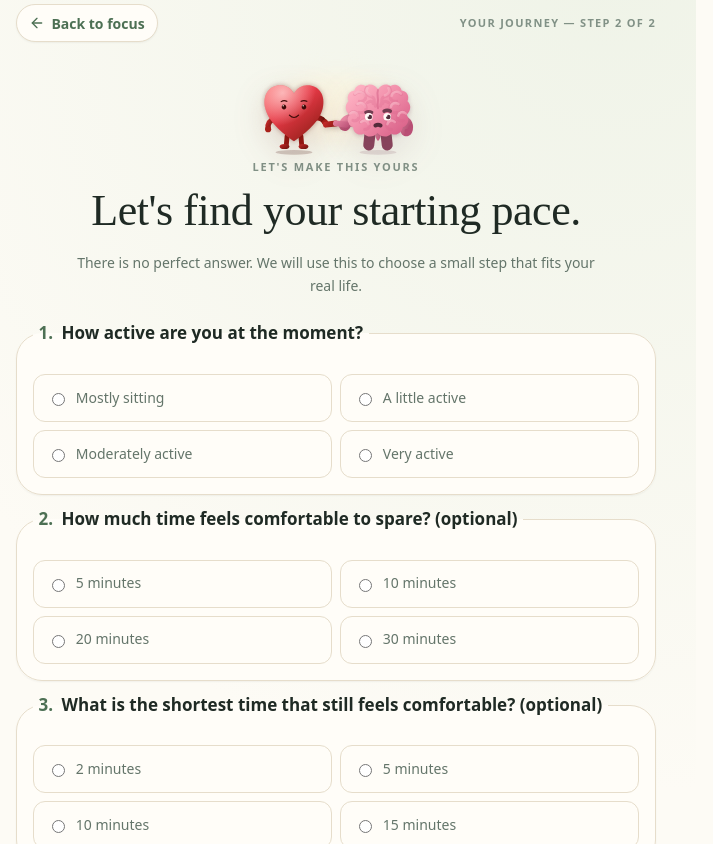
Test: ecosystem context on personalisation › applies the desk-heat preset and submits its context
This screenshot has width=713, height=844.
Later steps or results of the test are not shown.
Click the radio button labelled "Mostly sitting". click: (58, 400)
box: [52, 393, 65, 406]
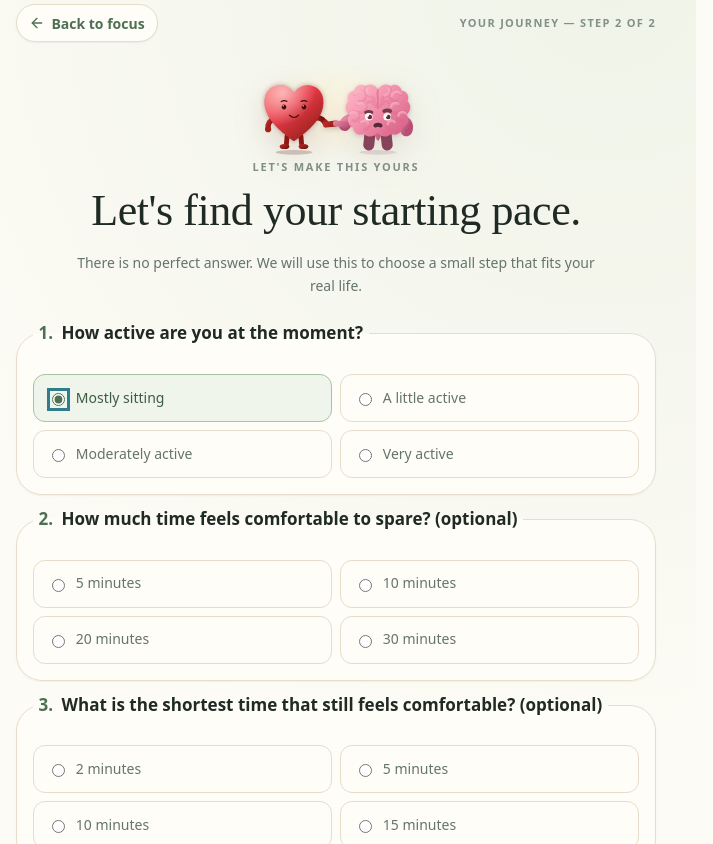
Click the 1st radio button labelled "5 minutes". click: (58, 585)
box: [52, 579, 65, 592]
(page scrolled)
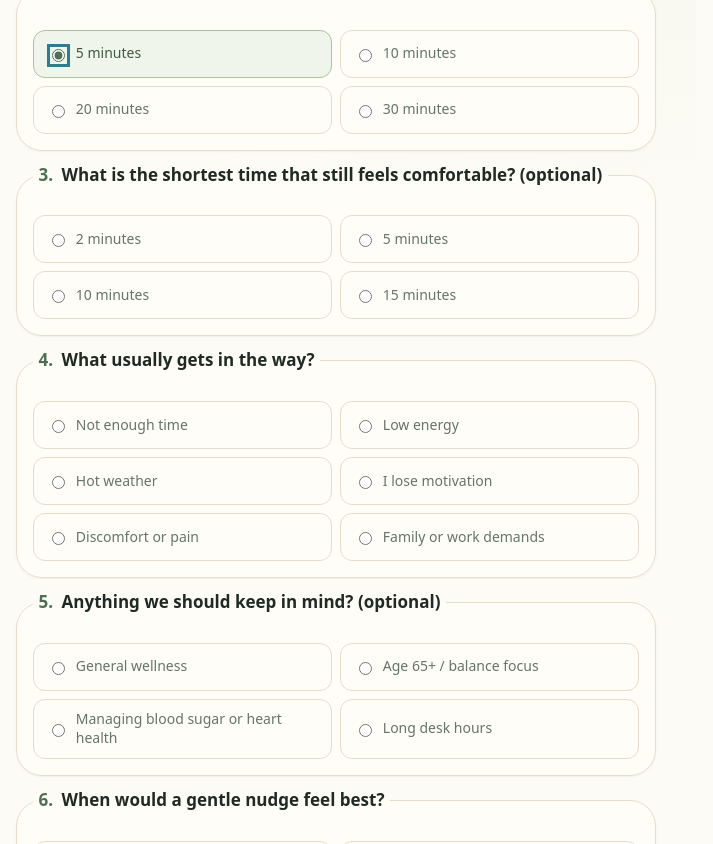
Click the radio button labelled "Not enough time". click: (58, 426)
box: [52, 420, 65, 433]
(page scrolled)
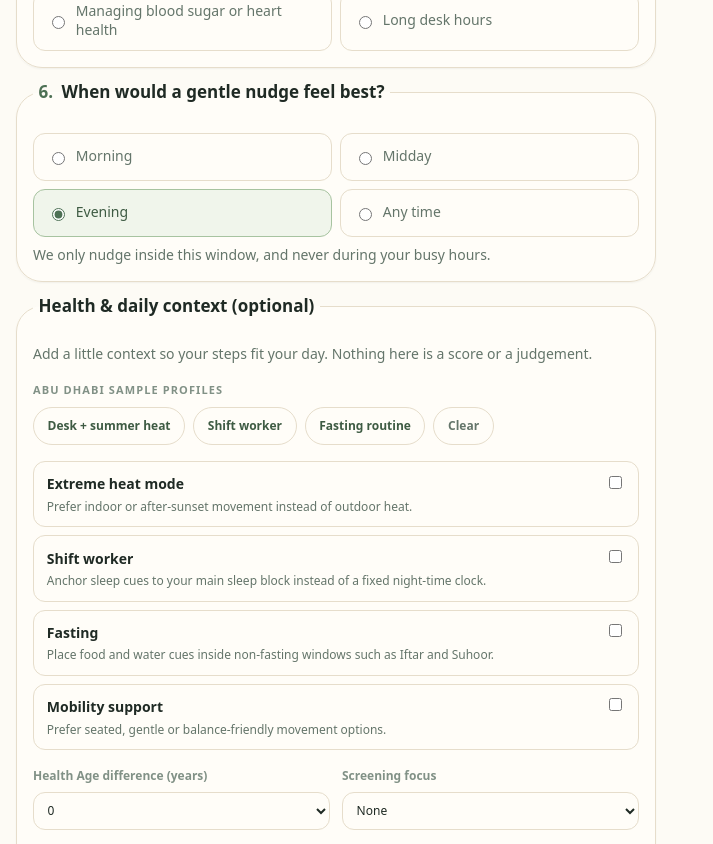
Click the button "Desk + summer heat". click: (109, 426)
box: [33, 407, 185, 445]
(page scrolled)
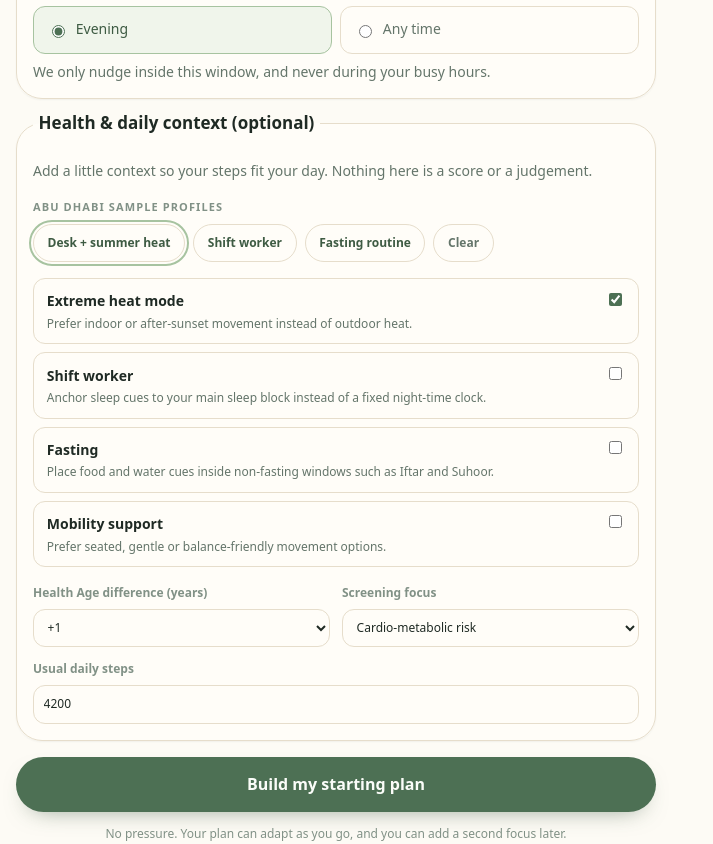
Now the checkbox labelled "Extreme heat mode" is checked, box [609, 293, 622, 306]
Now the number field labelled "Usual daily steps" holds "4200", box [33, 684, 639, 724]
